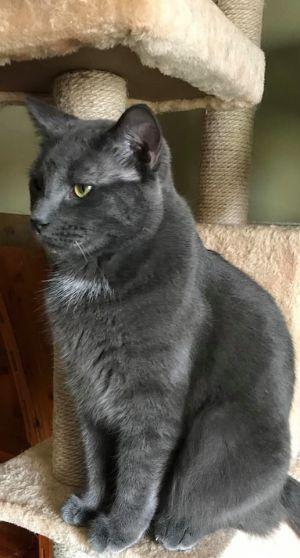rblue: (16, 88, 197, 276)
